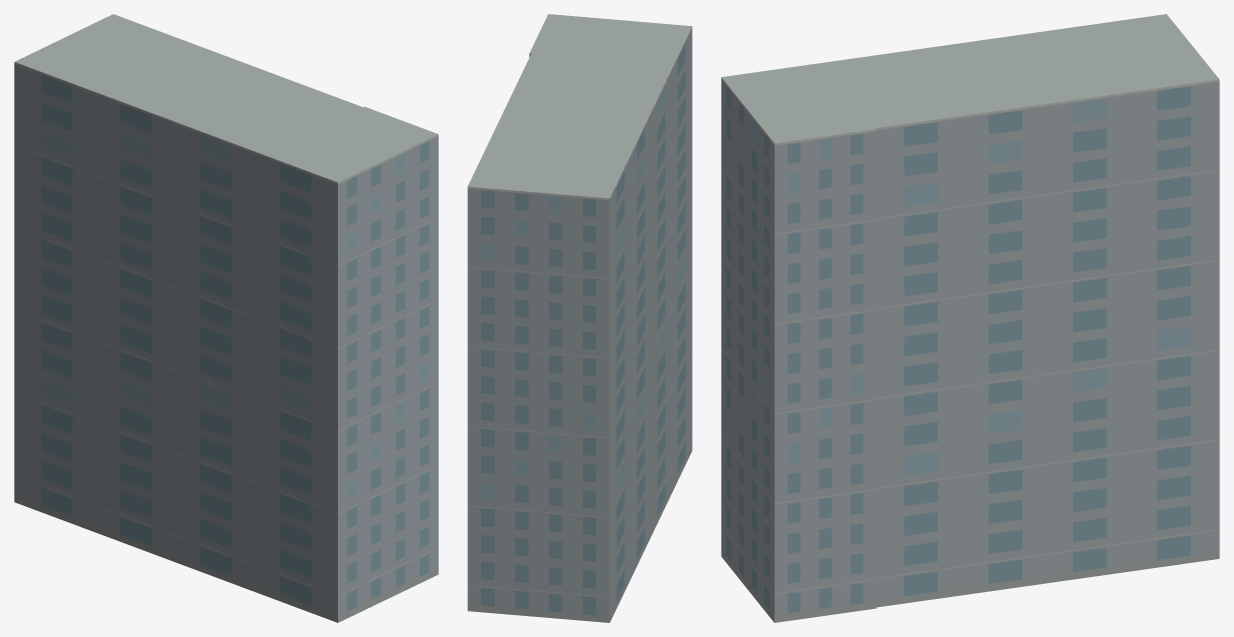
Rendered from survey-upis-32931611.glb.
3 views of the same model, side by side, from view 1: azimuth 30°, elevation 25°; view 2: azimuth 150°, elevation 25°; view 3: azimuth 270°, elevation 25° (orthographic). The views are drawn at different scales.
Parts seen in each view (by area): view 1: survey-upis-32931611.tmp; view 2: survey-upis-32931611.tmp; view 3: survey-upis-32931611.tmp.
Part boxes in pixels (x1,y1,x2,y2): survey-upis-32931611.tmp: (14, 14, 438, 622); survey-upis-32931611.tmp: (467, 14, 692, 622); survey-upis-32931611.tmp: (721, 14, 1219, 622).
Bounding box in the file's own units: 28.95 × 49.9 × 47.03.
